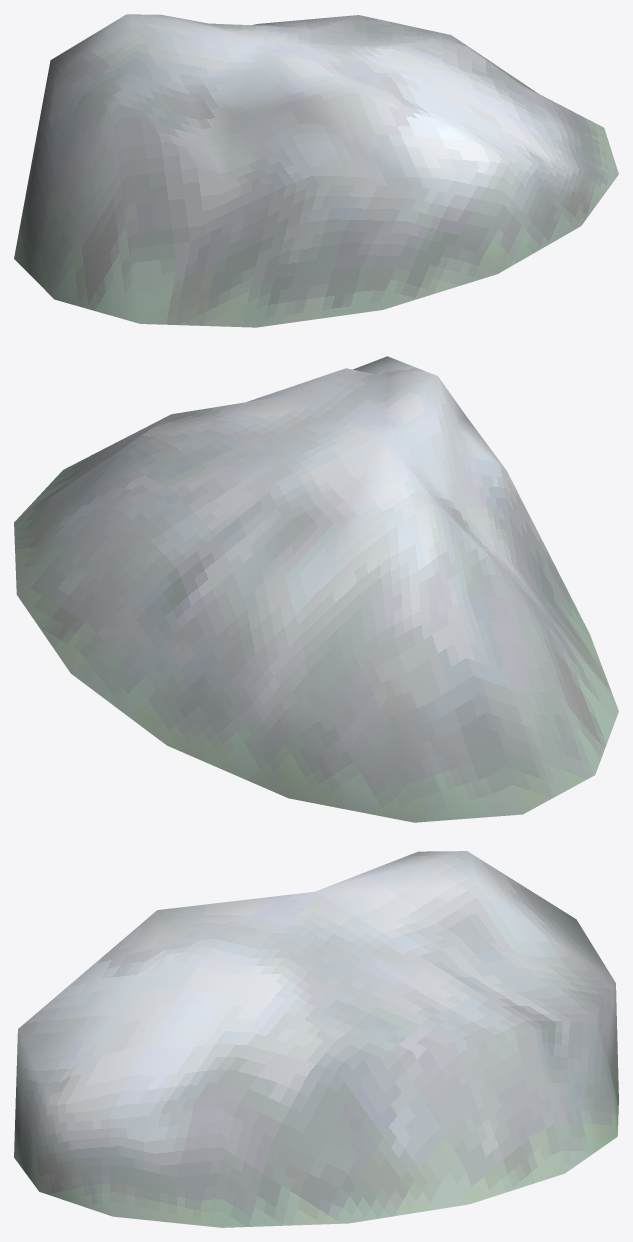
The model's file is TROLLHOLE02_STONEA22.fbx.
The picture shows the model from 3 angles, top to bottom: view 1: azimuth 30°, elevation 25°; view 2: azimuth 150°, elevation 25°; view 3: azimuth 270°, elevation 25°; orthographic projection. The views are drawn at different scales.
Parts seen in each view (by area): view 1: TROLLHOLE02_STONEA22; view 2: TROLLHOLE02_STONEA22; view 3: TROLLHOLE02_STONEA22.
Part boxes in pixels (left/top/right/bottom): TROLLHOLE02_STONEA22: left=14, top=14, right=618, bottom=327; TROLLHOLE02_STONEA22: left=14, top=356, right=618, bottom=822; TROLLHOLE02_STONEA22: left=14, top=851, right=618, bottom=1227.
Bounding box in the file's own units: 15334 × 6612 × 13522.
Materials: 1 (1 with a texture image).
